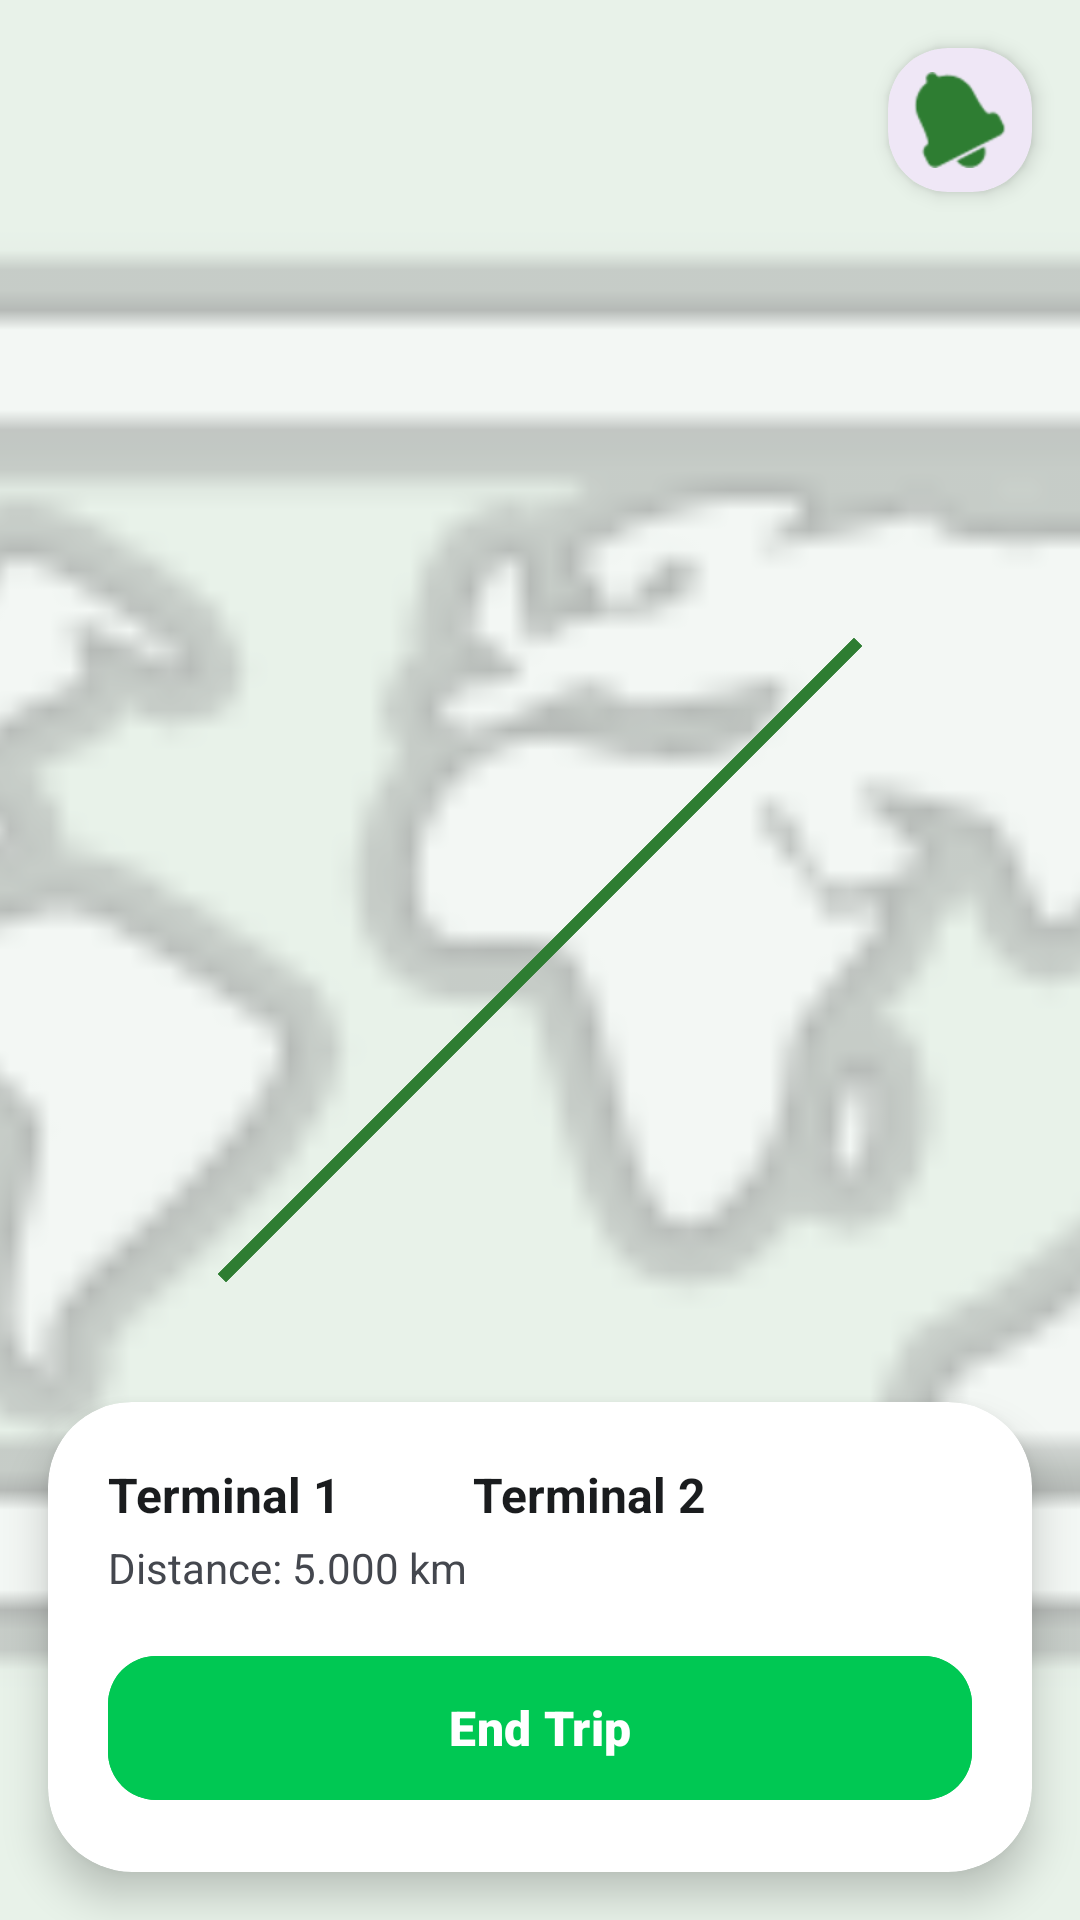

Icons on this 1080 x 1920 Android screen, each with the point to tap as point (x, y):
popup reminder: point (960, 120)
